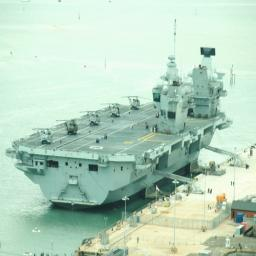Portanaves: (5, 16, 237, 214)
